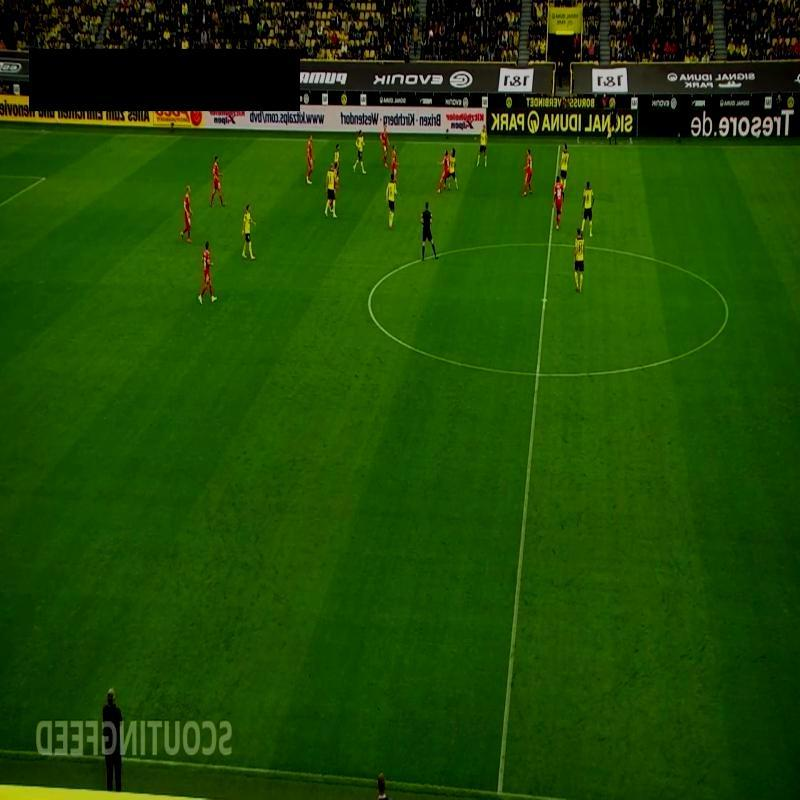13: (552, 138, 566, 152)
14: (542, 238, 556, 251)
15: (532, 367, 546, 381)
16: (490, 786, 508, 800)
9: (38, 170, 52, 184)
c: (719, 298, 735, 320), (363, 292, 377, 306)
